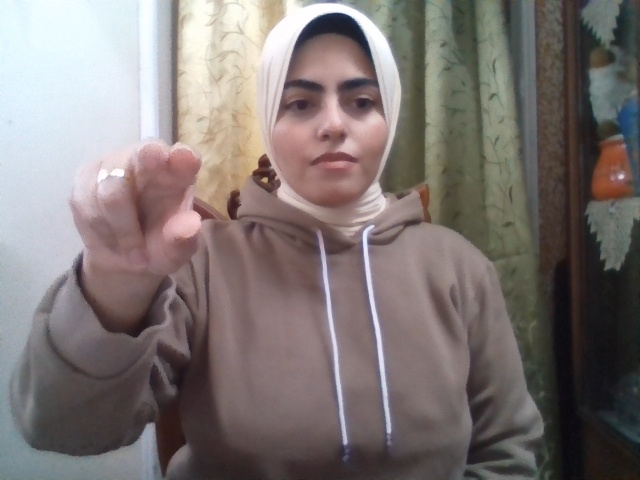no: (68, 136, 202, 281)
